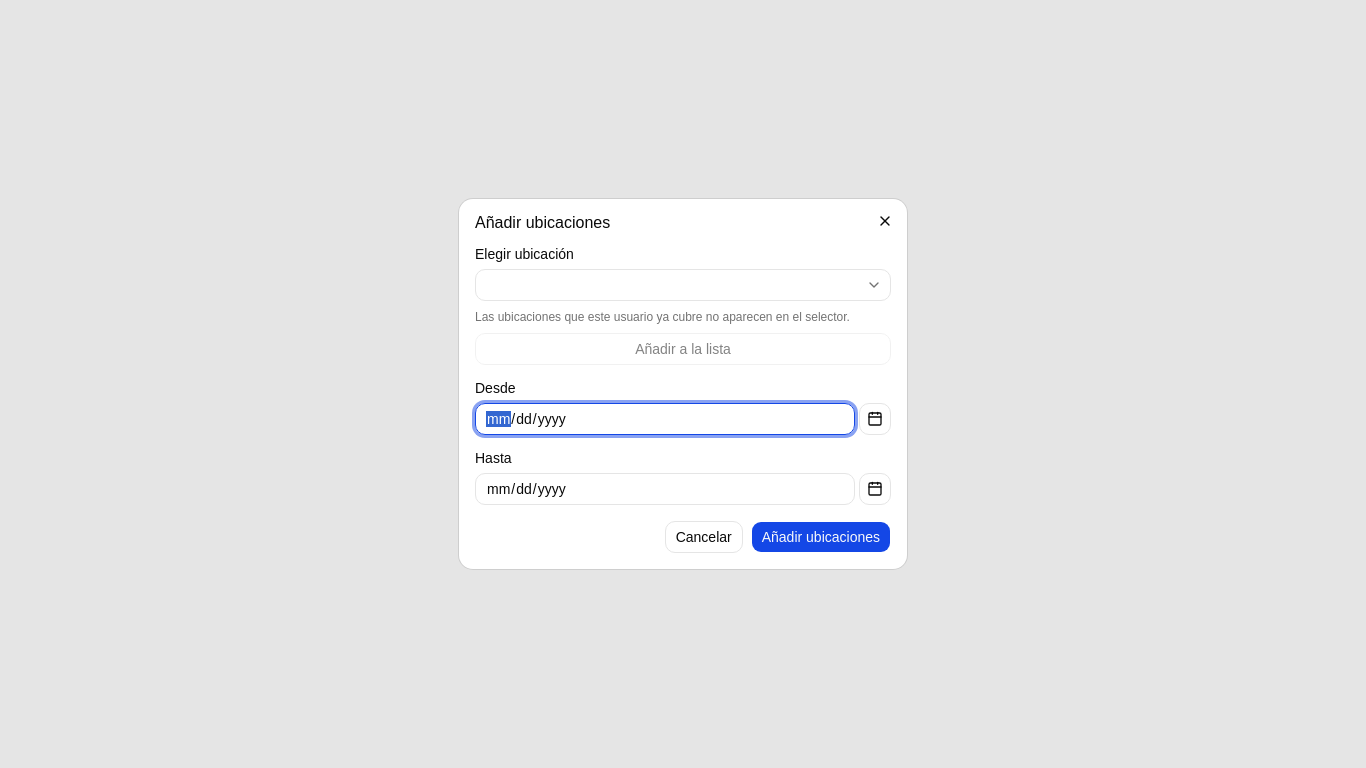
Test: AddGeoAssignmentsDialog — ESAVI-USERGEO-007 › una ubicación con asignación activa no se ofrece en el picker
The width and height of the screenshot is (1366, 768).
Click the dropdown named "Provincia" at (874, 285), box [475,269,891,301]
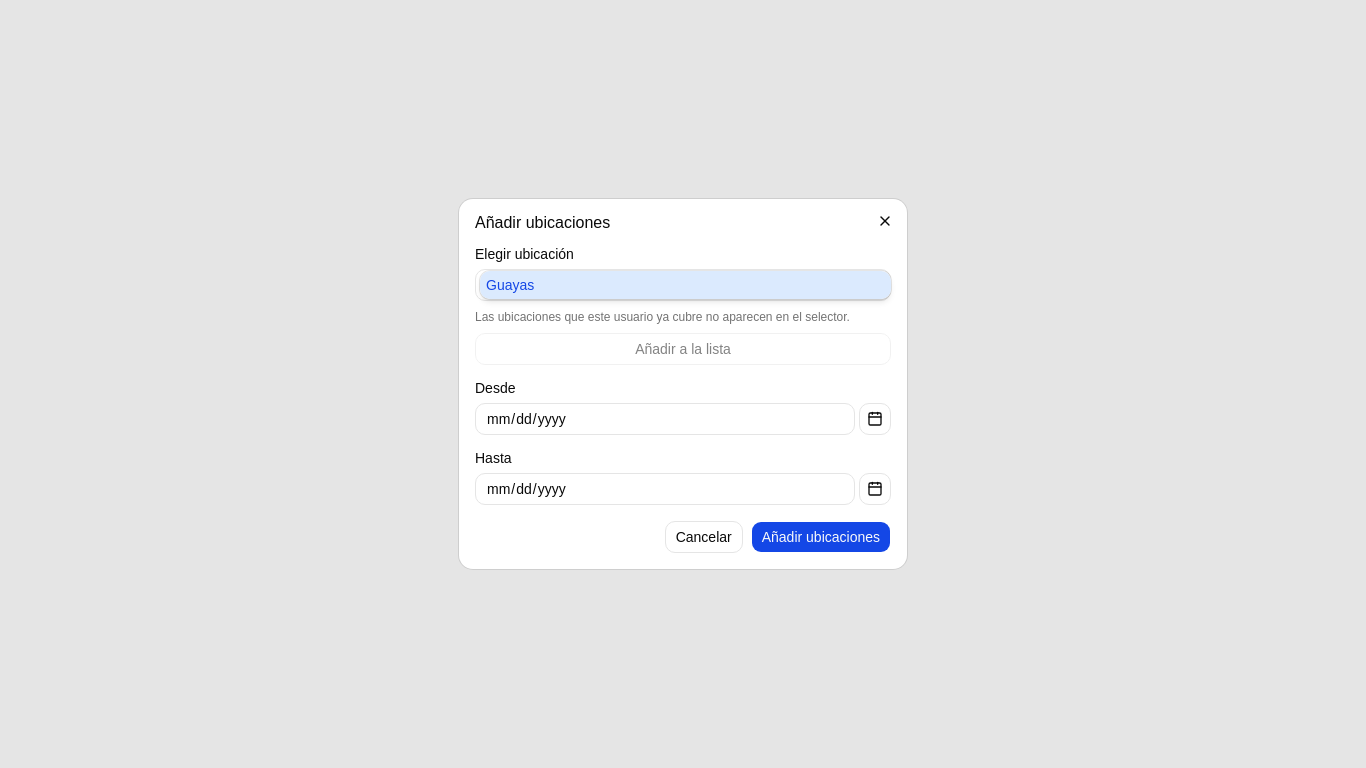
Now the option "Guayas" is shown, box [480,271,891,299]
